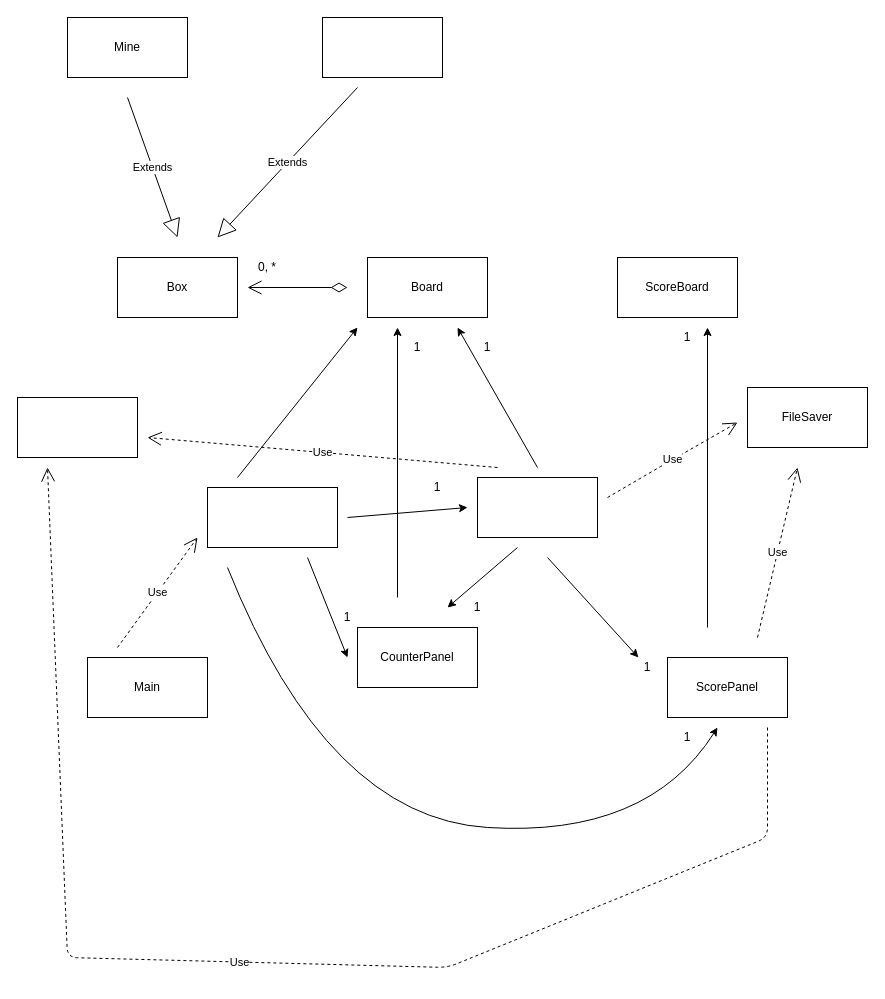
This 885x999 diagram has some shape labels left out. The box of each missing label's shape, as (x1, y1, x2, y2) in pixels:
Block: (322, 16, 442, 78)
FileLoader: (16, 396, 138, 458)
GamePanel: (476, 476, 598, 538)
MinesweeperGUI: (206, 486, 338, 548)
